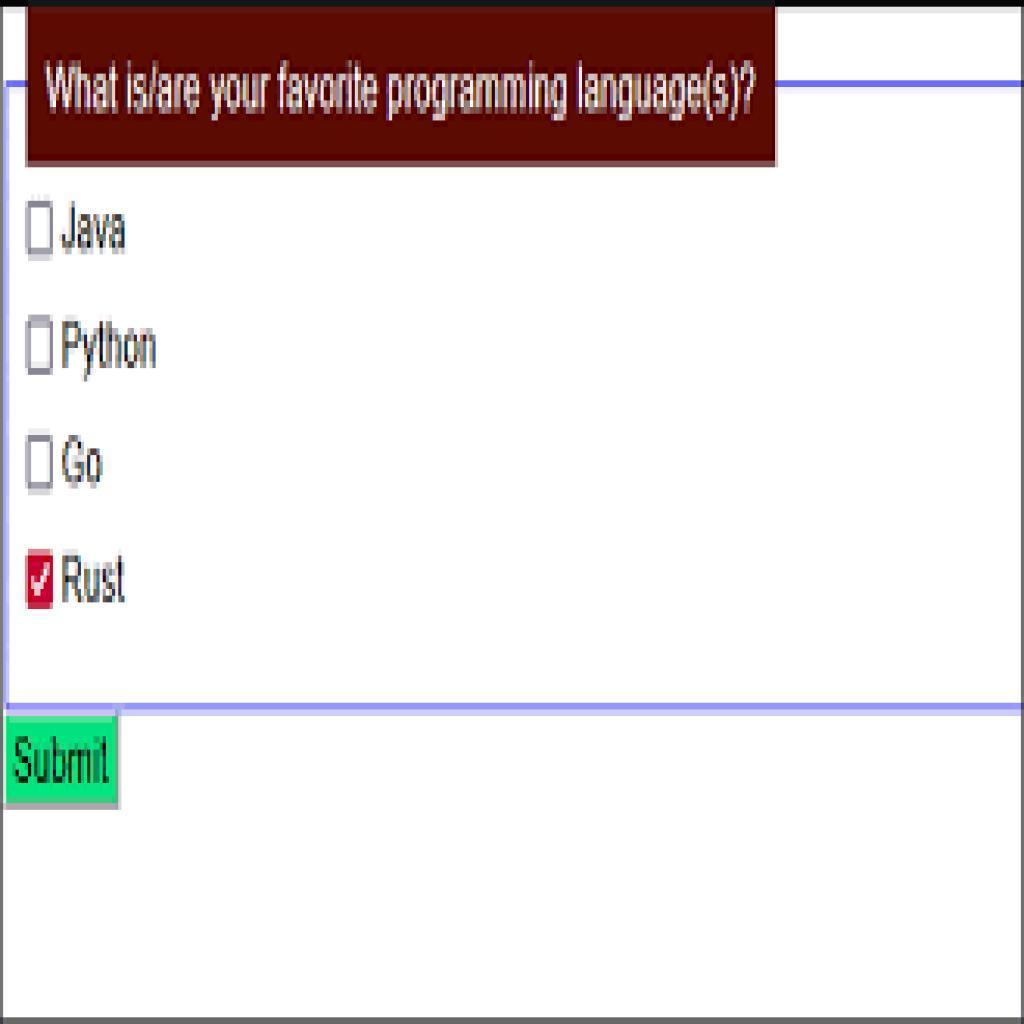button: (3, 712, 120, 804)
checkbox: (25, 551, 59, 611), (25, 435, 57, 492), (26, 317, 56, 372), (26, 204, 52, 257)
